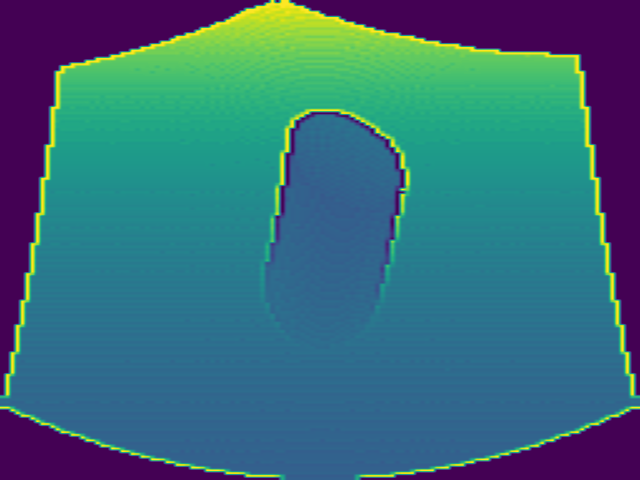cylinder: (263, 107, 409, 343)
